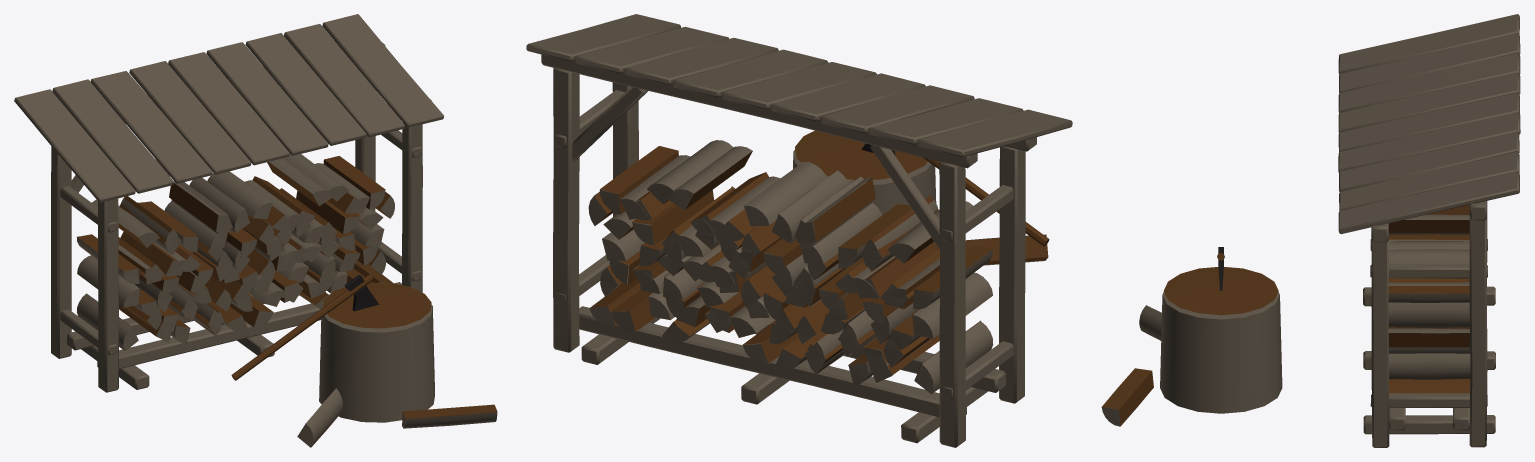
File: holzstapel.glb
3 renders of one model, left to right at view 1: azimuth 30°, elevation 25°; view 2: azimuth 150°, elevation 25°; view 3: azimuth 270°, elevation 25°, orthographic. The views are drawn at different scales.
Parts seen in each view (by area): view 1: holzstapel; view 2: holzstapel; view 3: holzstapel.
Boxes of the visible parts, box(x1,y1,x2,y2) form: holzstapel: box(14, 14, 497, 447); holzstapel: box(526, 14, 1072, 447); holzstapel: box(1101, 14, 1520, 447).
Bounding box in the file's own units: 1.72 × 1.2 × 1.71.
